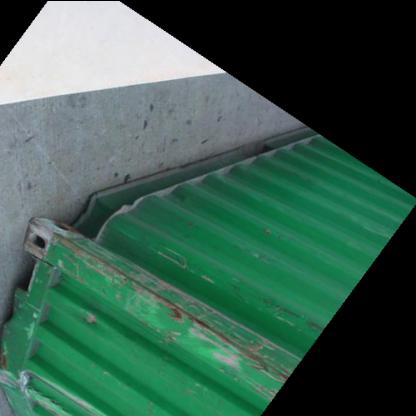Damage: (41, 254, 297, 376)
